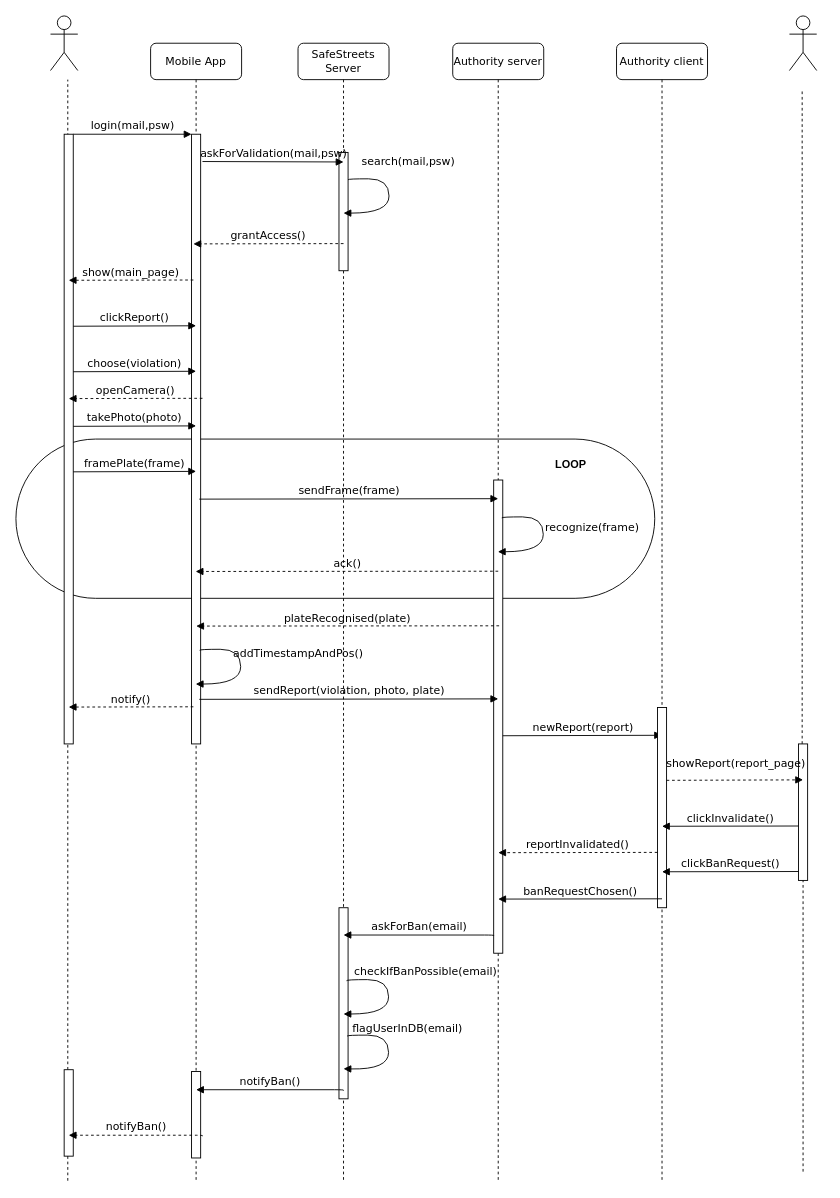
This 840x1198 diagram has some shape labels left out. The box of each missing label's shape, as (x1, y1, x2, y2) in pixels:
Authority: (789, 15, 817, 71)
Civilian: (50, 15, 78, 71)
